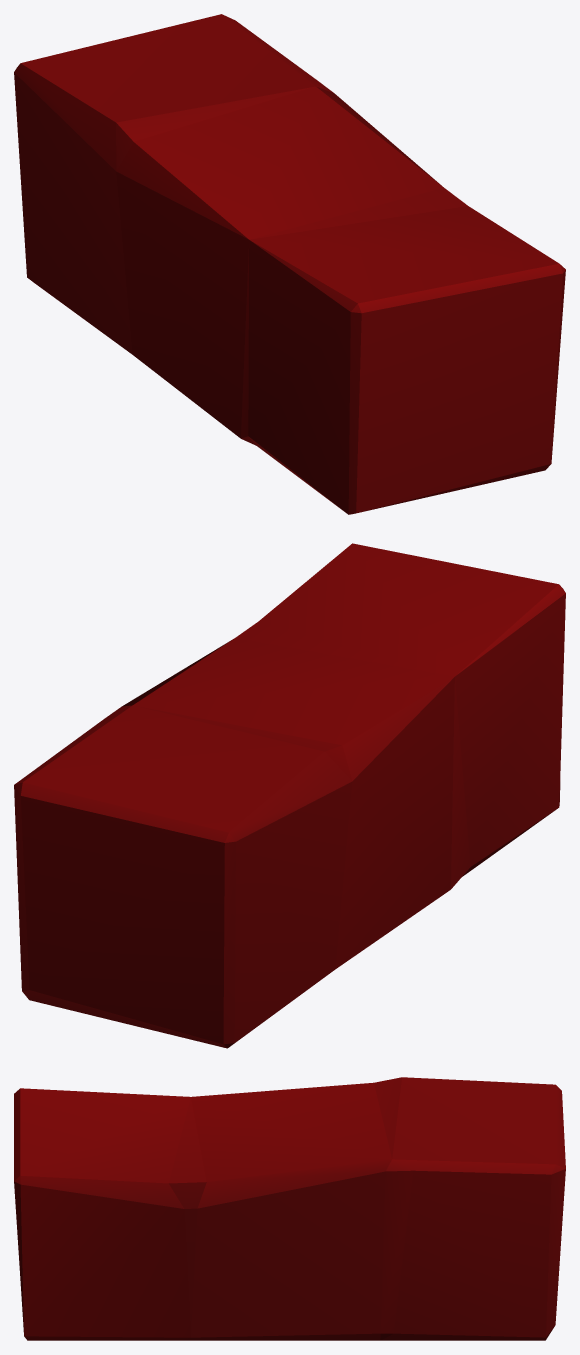
The model's file is geology-carvedstone-stoneblock_v5.fbx.
3 renders of one model, top to bottom at view 1: azimuth 30°, elevation 25°; view 2: azimuth 150°, elevation 25°; view 3: azimuth 270°, elevation 25°, orthographic. The views are drawn at different scales.
Visible parts, largest first — view 1: StoneBlock_v5; view 2: StoneBlock_v5; view 3: StoneBlock_v5.
Part boxes in pixels (bbox=[...]): StoneBlock_v5: bbox=[14, 14, 565, 514]; StoneBlock_v5: bbox=[14, 543, 565, 1048]; StoneBlock_v5: bbox=[14, 1077, 565, 1340].
Bounding box in the file's own units: 3.28 × 3.12 × 8.46.
